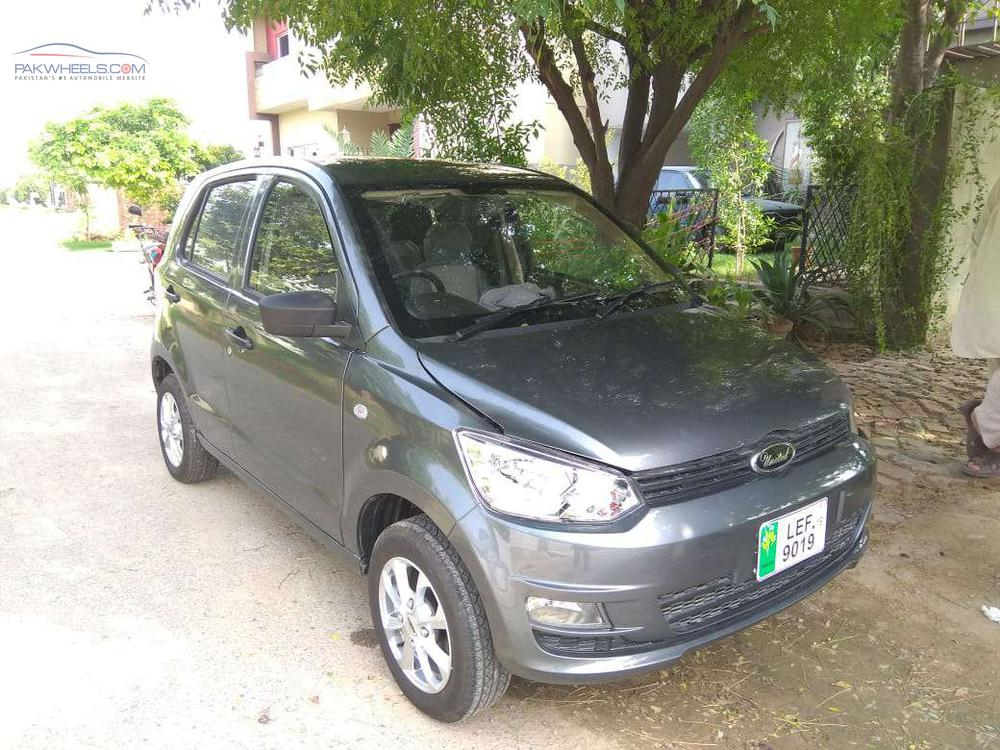license plate: (760, 515, 830, 557)
